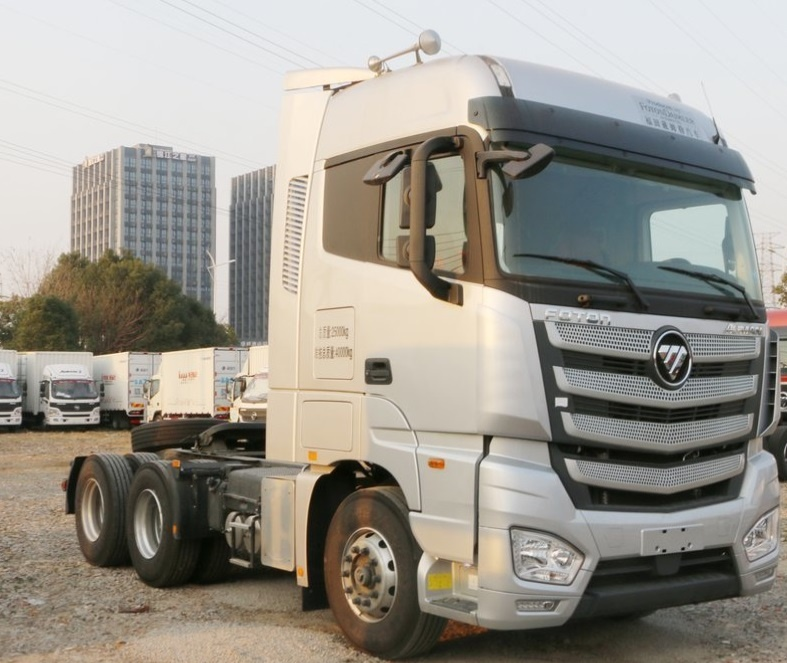heavy truck: (114, 33, 779, 629)
truck: (22, 338, 120, 440), (133, 337, 232, 430)
